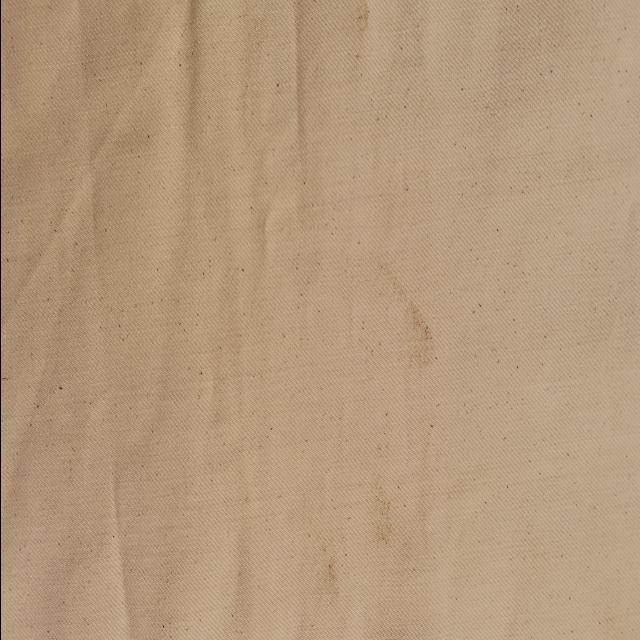taaaches: (392, 299, 436, 393), (367, 474, 395, 556), (314, 541, 340, 605), (347, 1, 370, 38)
